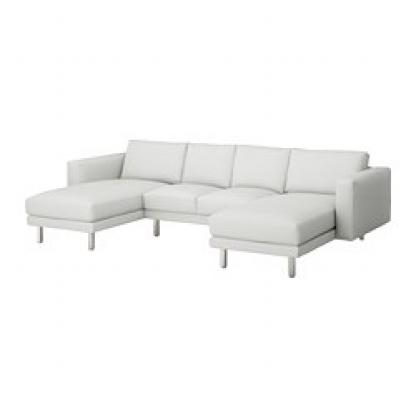Sofa: (18, 128, 393, 295)
